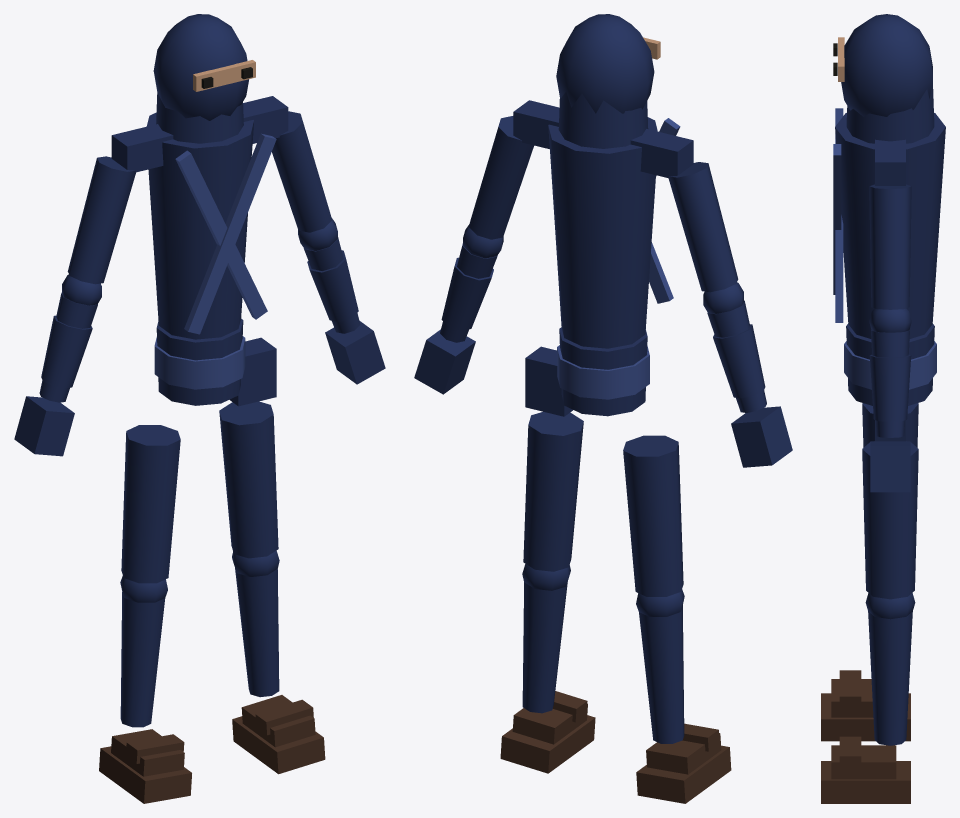
Rendered from ninja-body.glb.
3 renders of one model, left to right at view 1: azimuth 30°, elevation 25°; view 2: azimuth 150°, elevation 25°; view 3: azimuth 270°, elevation 25°, orthographic.
Parts seen in each view (by area): view 1: FittedTorso, Thigh-1, Thigh1, Face, UpperArm-1, Shin-1, Shin1, UpperArm1, ShoulderLink (×2), ChestStrapB, Waist, Sash (+18 smaller); view 2: FittedTorso, Thigh-1, Thigh1, Face, UpperArm-1, Shin-1, Shin1, UpperArm1, ShoulderLink (×2), HoodNeckFabric, Waist, Sash (+16 smaller); view 3: FittedTorso, Face, Thigh1, UpperArm1, Shin1, HoodNeckFabric, Sandal1, Bracer1, Hand1, Waist, Foot1, Sash (+12 smaller).
Part boxes in pixels (box(x1,y1,x2,y2)): FittedTorso: box(146, 112, 253, 339); Thigh-1: box(121, 425, 180, 583); Thigh1: box(219, 401, 278, 558); Face: box(153, 14, 248, 120); UpperArm-1: box(67, 156, 135, 284); Shin-1: box(120, 592, 165, 727); Shin1: box(235, 568, 279, 697); UpperArm1: box(272, 111, 331, 232); ShoulderLink (×2): box(111, 96, 288, 172); ChestStrapB: box(184, 133, 276, 334); Waist: box(156, 318, 243, 405); Sash: box(154, 336, 245, 389); FittedTorso: box(548, 117, 657, 348); Thigh-1: box(623, 435, 683, 596); Thigh1: box(523, 411, 583, 571); Face: box(556, 14, 654, 113); UpperArm-1: box(668, 162, 738, 292); Shin-1: box(639, 605, 684, 743); Shin1: box(522, 581, 567, 713); UpperArm1: box(468, 116, 534, 239); ShoulderLink (×2): box(513, 100, 693, 178); HoodNeckFabric: box(558, 91, 648, 148); Waist: box(559, 327, 647, 416); Sash: box(557, 345, 649, 399); FittedTorso: box(835, 113, 945, 338); Face: box(841, 14, 932, 116); Thigh1: box(862, 442, 918, 599); UpperArm1: box(869, 184, 911, 309); Shin1: box(868, 611, 912, 745); HoodNeckFabric: box(846, 81, 934, 143); Sandal1: box(821, 761, 910, 803); Bracer1: box(869, 354, 911, 421); Hand1: box(870, 441, 910, 492); Waist: box(846, 323, 934, 405); Foot1: box(831, 745, 896, 779); Sash: box(844, 341, 936, 389).
Size of the model in its own units: 0.9158 by 1.85 by 0.2815.
